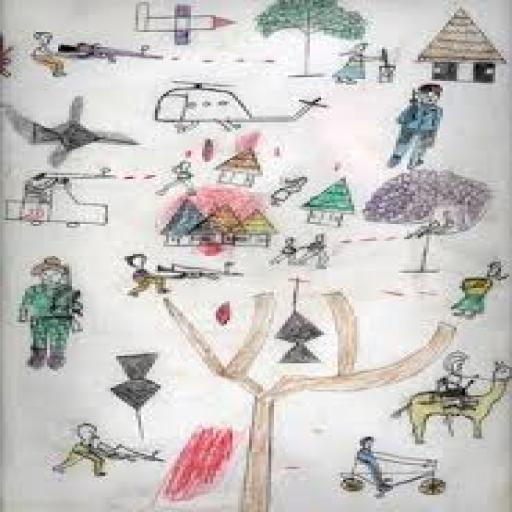person: (18, 20, 162, 95), (17, 254, 89, 397), (314, 436, 447, 510), (366, 81, 473, 171), (51, 423, 152, 497), (120, 248, 229, 304), (403, 352, 475, 420), (447, 251, 504, 319), (329, 45, 399, 93), (146, 154, 205, 200), (288, 232, 340, 276), (266, 170, 313, 218), (268, 231, 300, 271)
